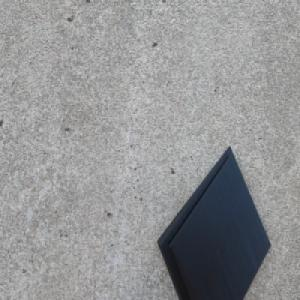PlasticPart: (155, 143, 271, 300)
